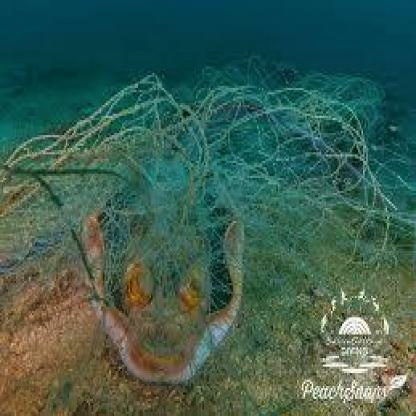net: (8, 73, 411, 414)
